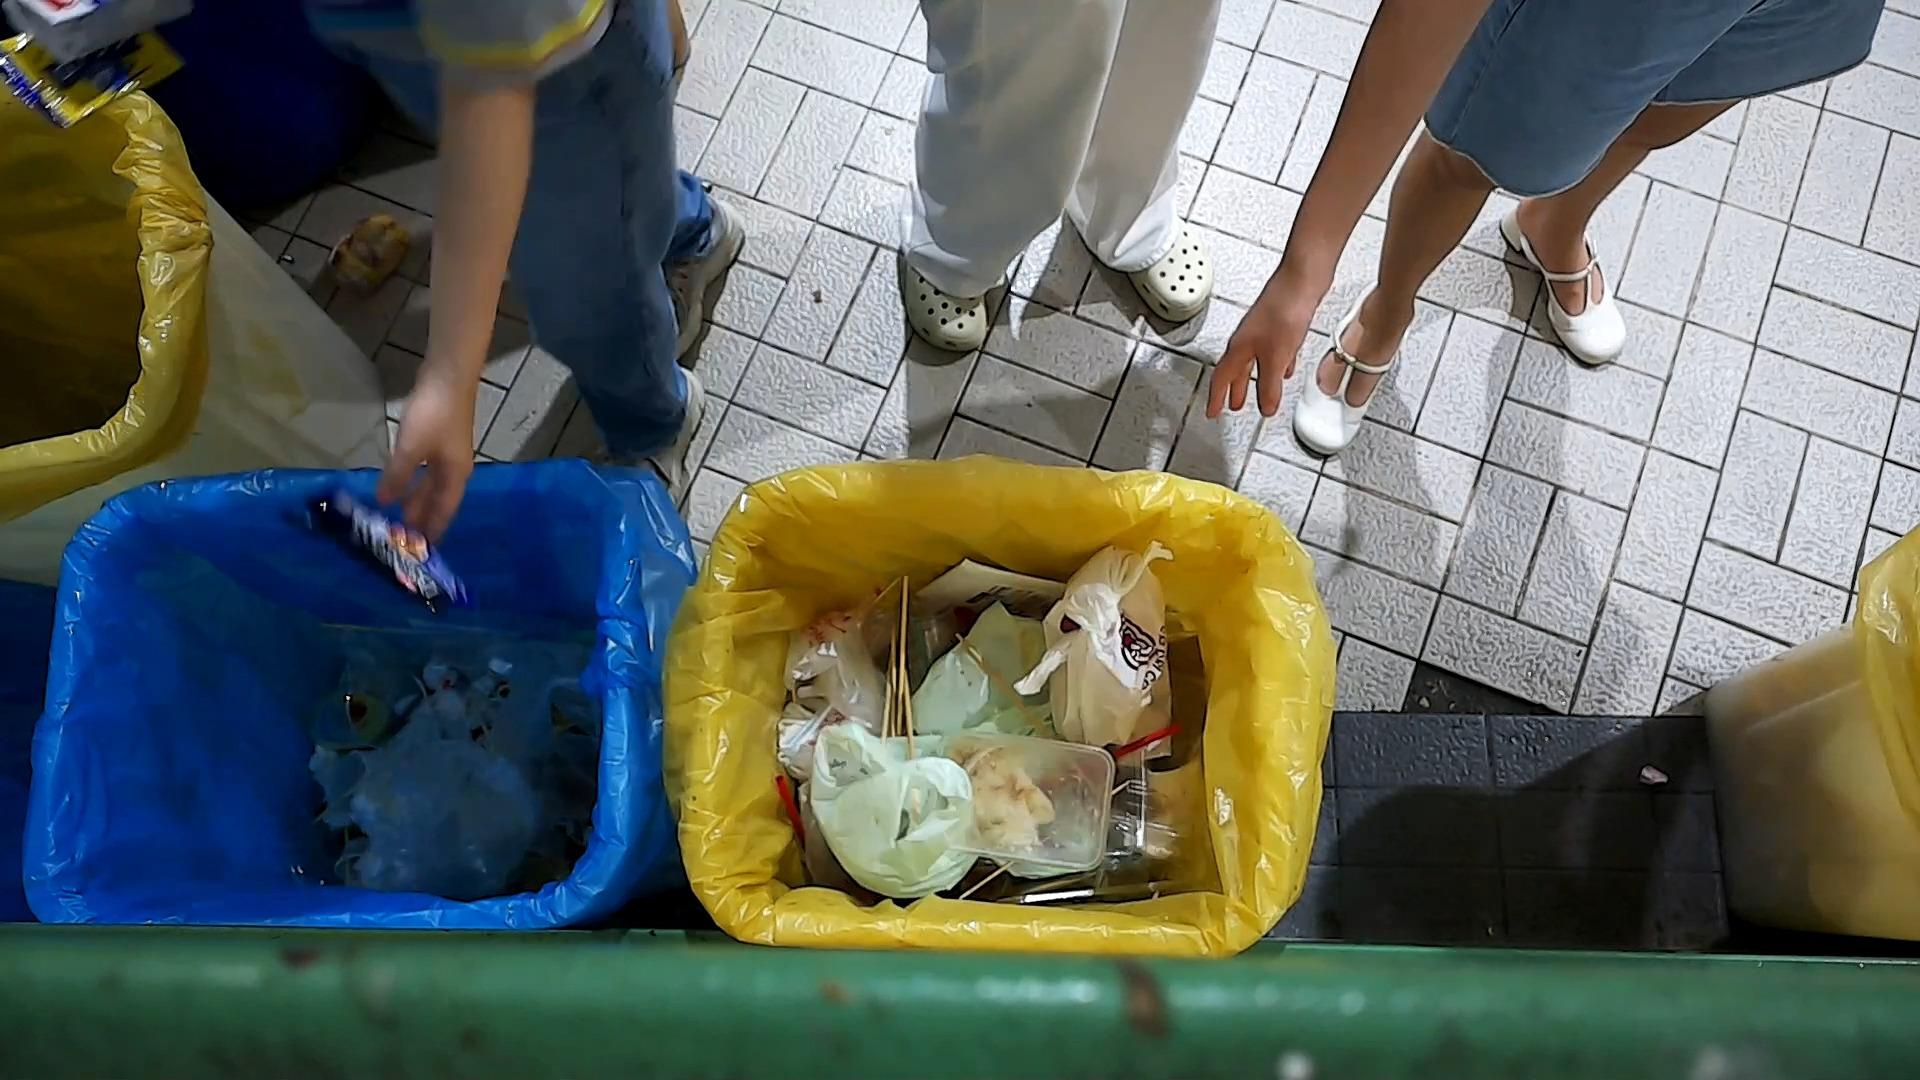dirty food container: (943, 727, 1116, 872)
filled plastic bag: (1011, 538, 1182, 760), (802, 707, 989, 903)
plastic bag: (344, 654, 564, 906), (775, 597, 885, 748)
plastic cup: (302, 654, 431, 757)
snack packaging: (277, 481, 483, 624), (0, 20, 191, 148)
sticks: (955, 775, 1137, 902), (952, 630, 1055, 740), (305, 753, 398, 831), (903, 667, 923, 824), (465, 692, 500, 762), (895, 574, 910, 736), (880, 622, 897, 749)
straw: (1109, 720, 1185, 762), (775, 771, 806, 860)
